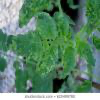Tomato leaf mosaic virus: (4, 29, 45, 60), (36, 43, 59, 78), (35, 10, 59, 41), (73, 38, 96, 67), (62, 45, 77, 78)
